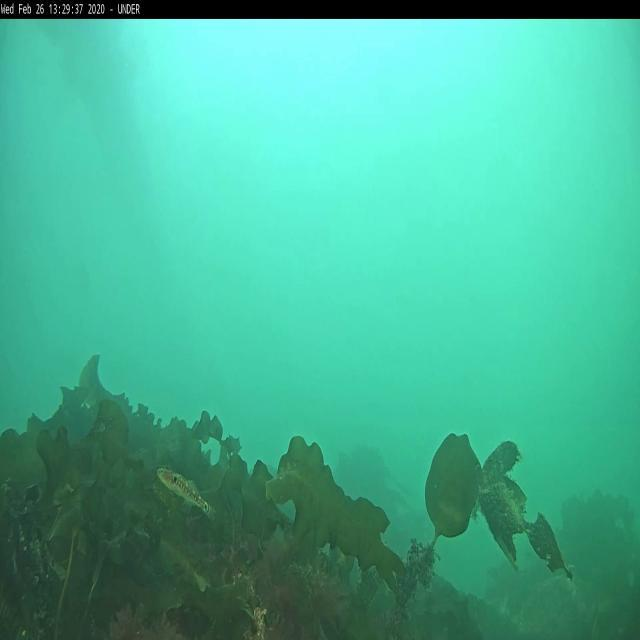fish: (155, 462, 213, 524)
